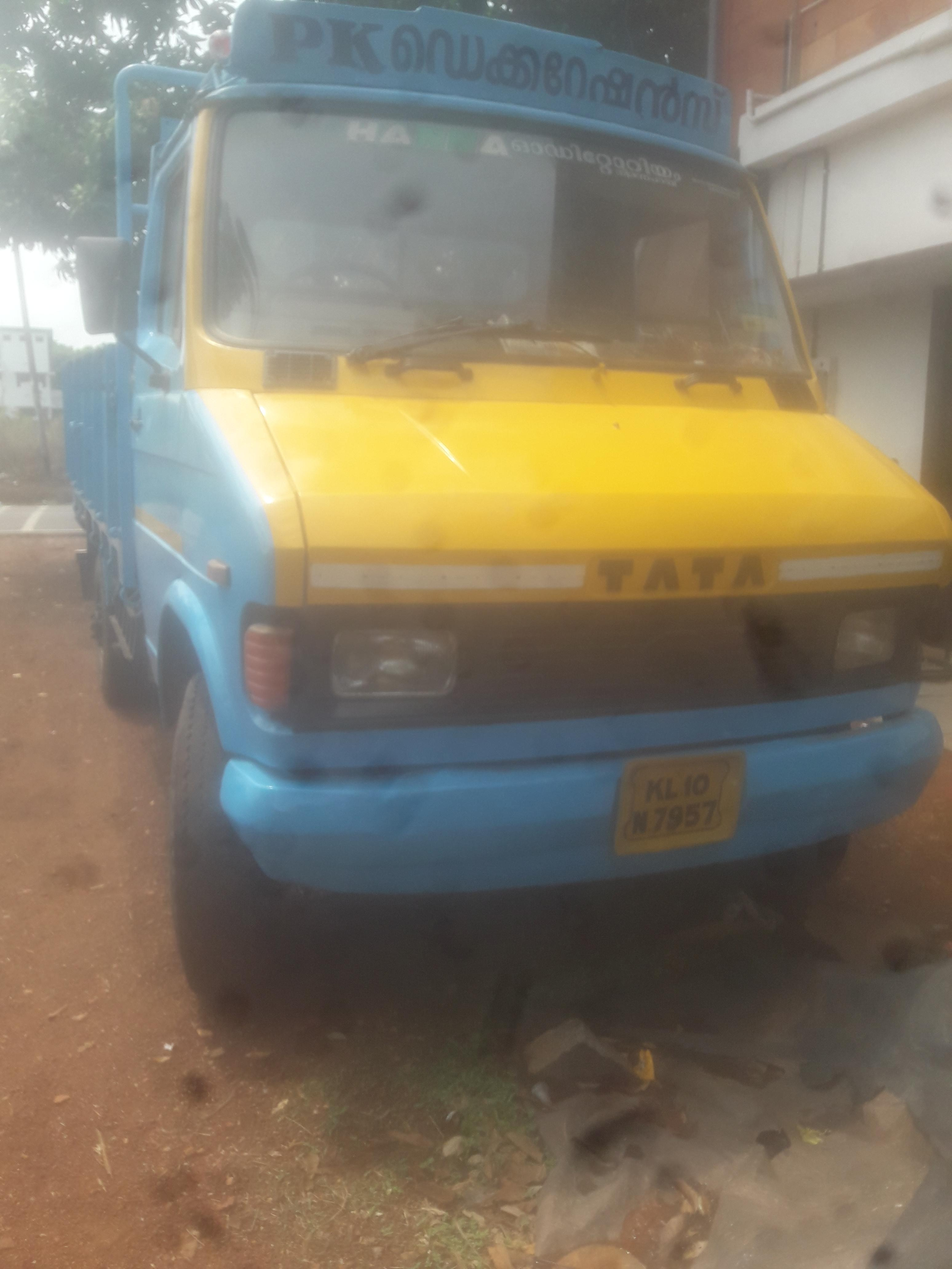non-ambulance: (72, 0, 952, 964)
